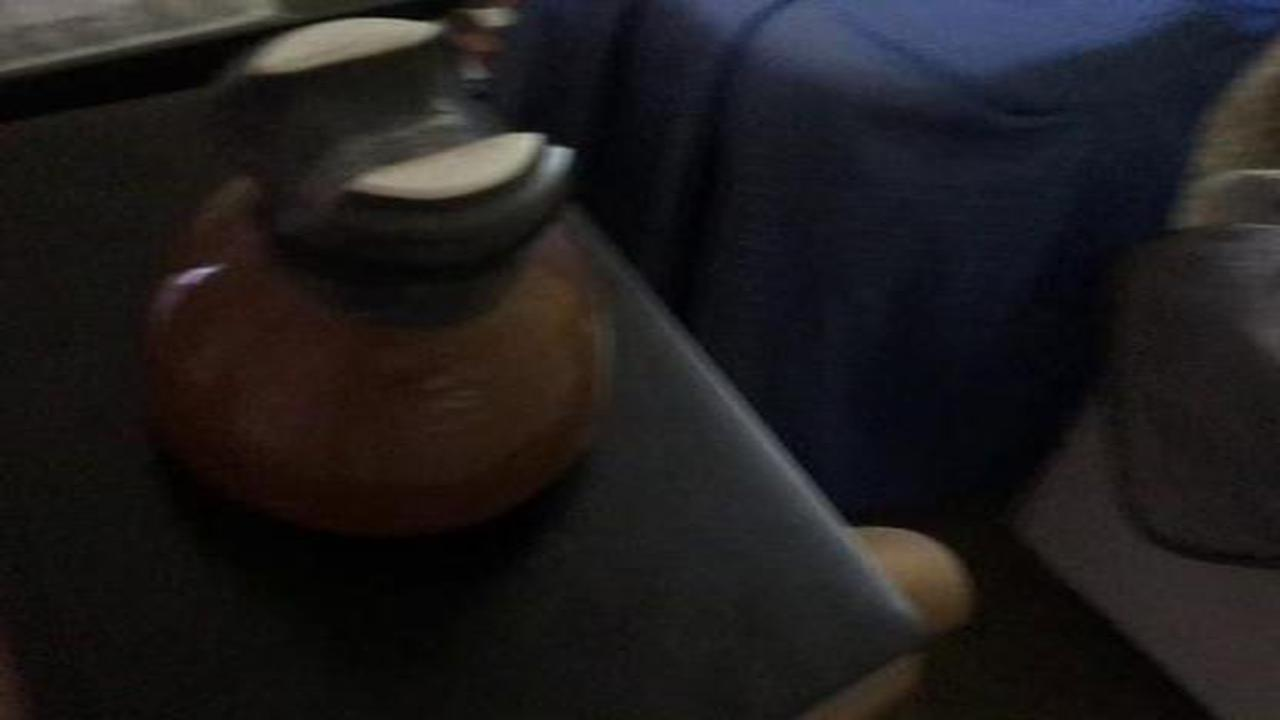insulator_pin: (93, 1, 625, 566)
